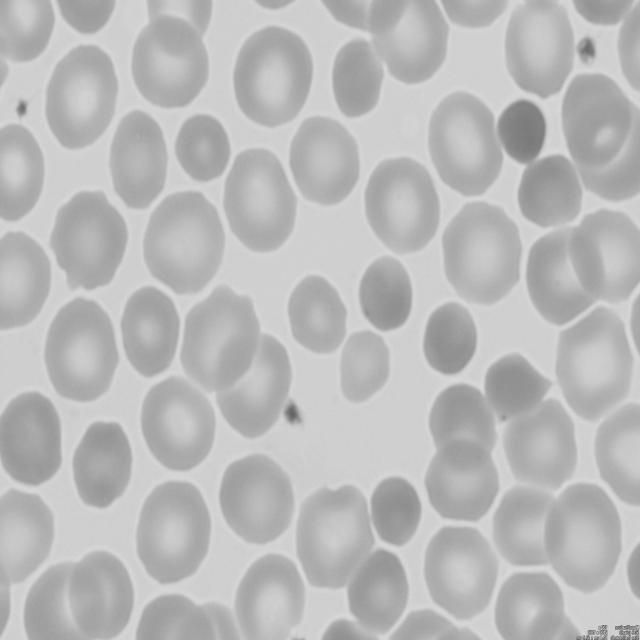Platelets: (283, 398, 306, 428)
RBC: (136, 190, 228, 298), (226, 21, 316, 130), (438, 200, 526, 308), (542, 482, 626, 595), (130, 477, 214, 588), (292, 485, 376, 595), (40, 294, 124, 402), (551, 308, 633, 418), (128, 8, 213, 114), (40, 43, 121, 154), (49, 187, 132, 293), (134, 374, 218, 477), (521, 225, 602, 330), (210, 334, 291, 439), (220, 147, 298, 256), (359, 157, 442, 259), (214, 451, 298, 551), (180, 284, 261, 387), (418, 520, 497, 624), (498, 0, 578, 101), (424, 92, 501, 194), (558, 72, 636, 170), (286, 113, 364, 210), (365, 0, 448, 87), (421, 440, 502, 529), (503, 399, 581, 490), (230, 550, 306, 640), (106, 110, 173, 211), (0, 388, 65, 492), (114, 280, 182, 378), (66, 546, 136, 640), (570, 206, 640, 300), (423, 378, 496, 464), (66, 416, 134, 508), (346, 544, 411, 634), (0, 227, 55, 333), (0, 483, 56, 586), (286, 271, 350, 355), (490, 569, 564, 640), (592, 400, 640, 509), (0, 123, 49, 227), (517, 152, 585, 226), (175, 109, 232, 188), (338, 330, 393, 402), (0, 0, 57, 63), (50, 0, 122, 36), (436, 0, 514, 32), (615, 2, 640, 99), (567, 0, 637, 26)
Spherocyte: (325, 34, 385, 126), (352, 250, 416, 336), (422, 299, 484, 378), (494, 96, 550, 166), (372, 475, 419, 552)
